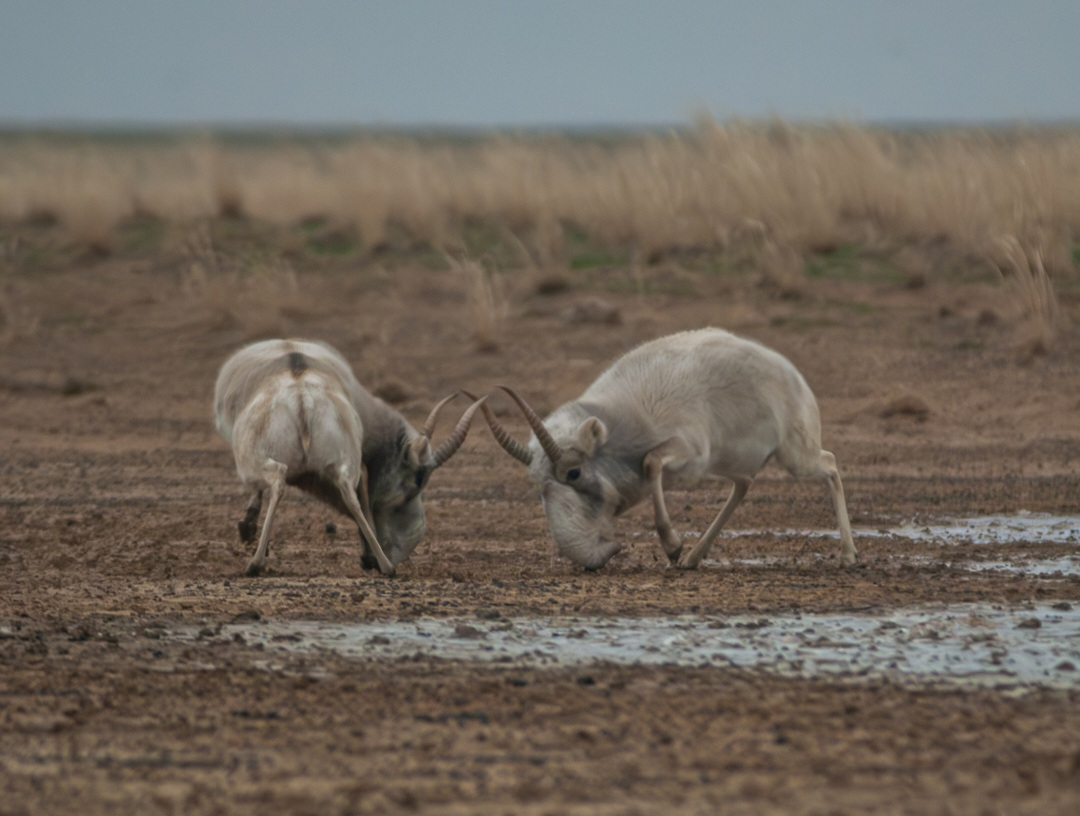saiga: (477, 306, 866, 575), (232, 307, 468, 582)
